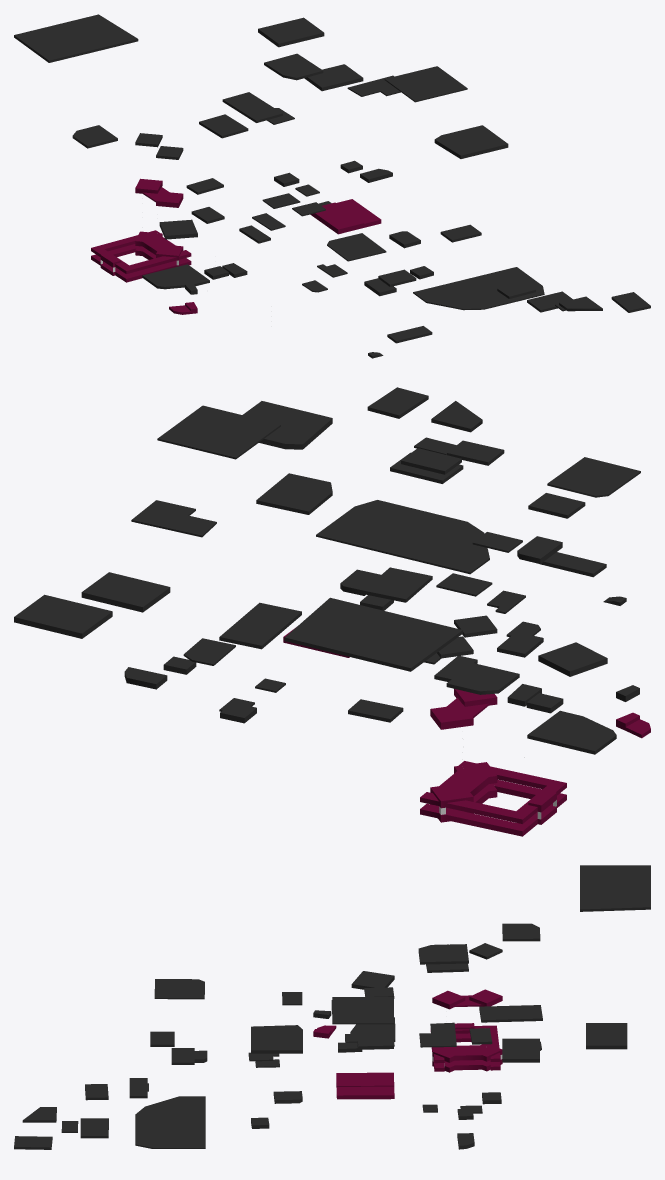
Rendered from Area_01_Mesh.fbx.
3 views of the same model, one above another, from view 1: azimuth 30°, elevation 25°; view 2: azimuth 150°, elevation 25°; view 3: azimuth 270°, elevation 25° (orthographic). The views are drawn at different scales.
Visible parts, largest first — view 1: OUT_Area01_Building_GeneratedMesh; view 2: OUT_Area01_Building_GeneratedMesh; view 3: OUT_Area01_Building_GeneratedMesh.
Part boxes in pixels (left/top/right/bottom): OUT_Area01_Building_GeneratedMesh: left=14, top=14, right=650, bottom=358; OUT_Area01_Building_GeneratedMesh: left=14, top=387, right=650, bottom=836; OUT_Area01_Building_GeneratedMesh: left=14, top=865, right=650, bottom=1149.
Bounding box in the file's own units: 284 × 142 × 475.
